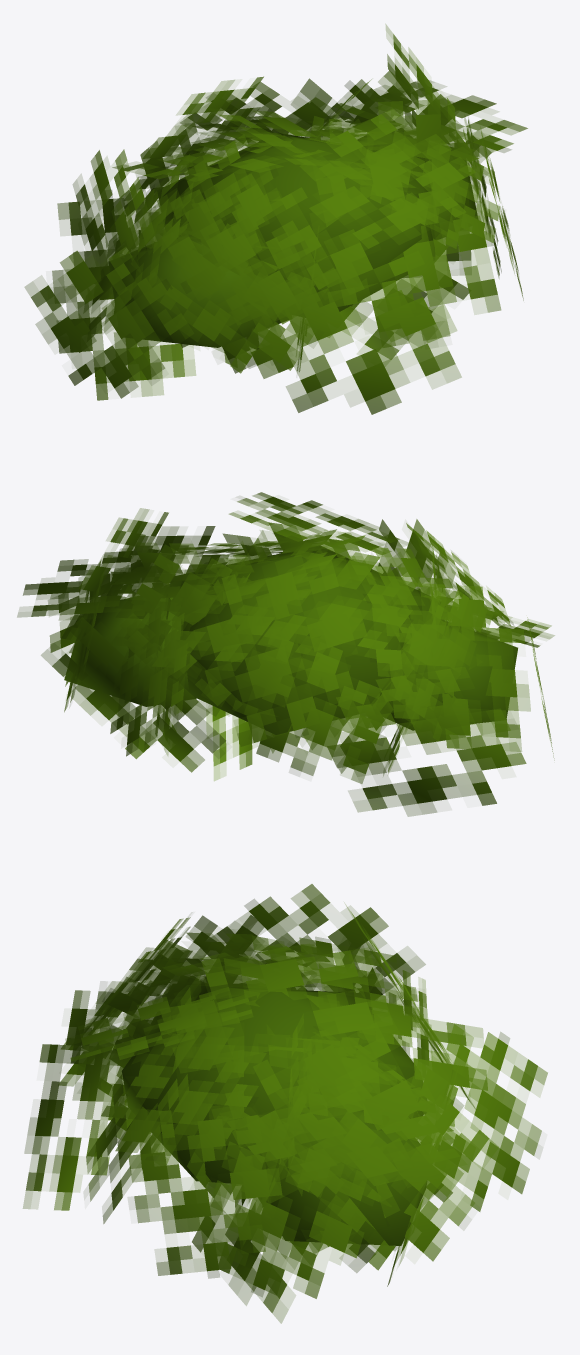
File: shrub_mound.glb
3 views of the same model, one above another, from view 1: azimuth 30°, elevation 25°; view 2: azimuth 150°, elevation 25°; view 3: azimuth 270°, elevation 25° (orthographic). The views are drawn at different scales.
Visible parts, largest first — view 1: shrub_mound_Leaf_Mid, shrub_mound_Core_Mid; view 2: shrub_mound_Leaf_Mid, shrub_mound_Core_Mid; view 3: shrub_mound_Leaf_Mid, shrub_mound_Core_Mid.
Part boxes in pixels (<box>): shrub_mound_Leaf_Mid: <box>24,24,527,414</box>; shrub_mound_Core_Mid: <box>108,132,477,347</box>; shrub_mound_Leaf_Mid: <box>17,492,554,816</box>; shrub_mound_Core_Mid: <box>64,545,517,734</box>; shrub_mound_Leaf_Mid: <box>23,884,547,1323</box>; shrub_mound_Core_Mid: <box>121,984,426,1245</box>.
Size of the model in its own units: 3.28 by 1.85 by 2.55.
Materials: 2 (1 with a texture image).
